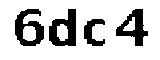4: (115, 4, 152, 51)
6: (9, 5, 47, 50)
c: (82, 14, 108, 49)
d: (48, 6, 80, 51)
